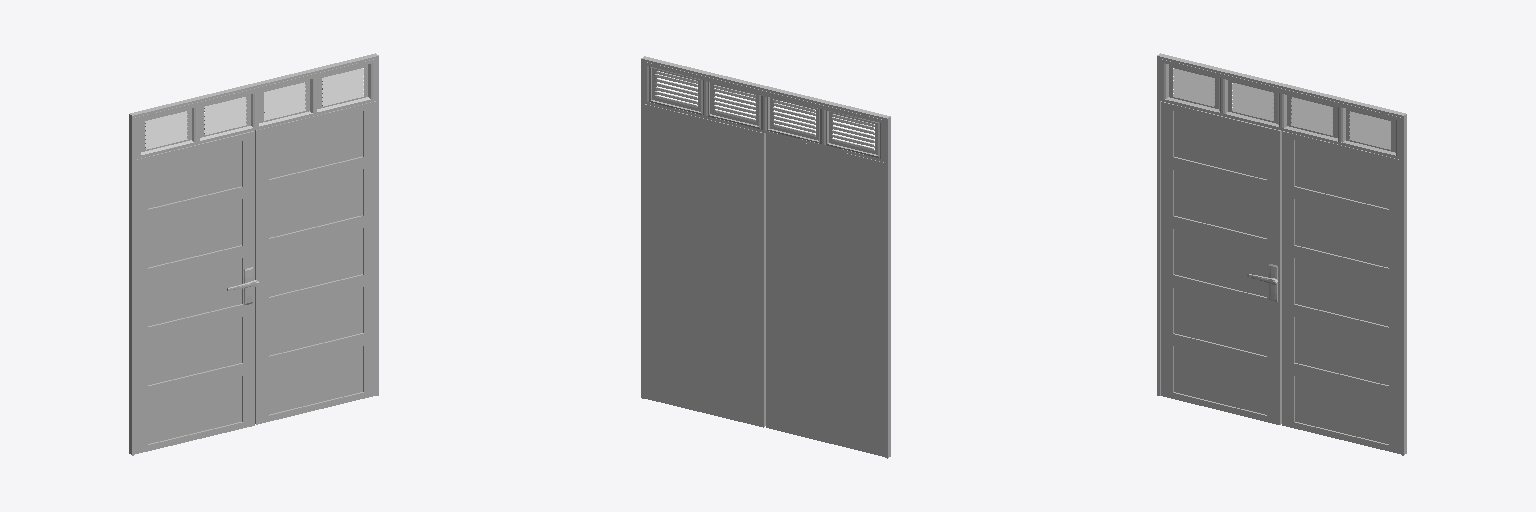
File: porta1.obj
The picture shows the model from 3 angles: view 1: azimuth 30°, elevation 25°; view 2: azimuth 150°, elevation 25°; view 3: azimuth 330°, elevation 25°; orthographic projection.
Visible parts, largest first — view 1: Door_Cube.007; view 2: Door_Cube.007; view 3: Door_Cube.007.
Part boxes in pixels (x1,y1,x2,y2): Door_Cube.007: (129, 53, 378, 455); Door_Cube.007: (641, 56, 890, 458); Door_Cube.007: (1157, 53, 1406, 455).
Bounding box in the file's own units: 10.51 × 13.84 × 0.5195.